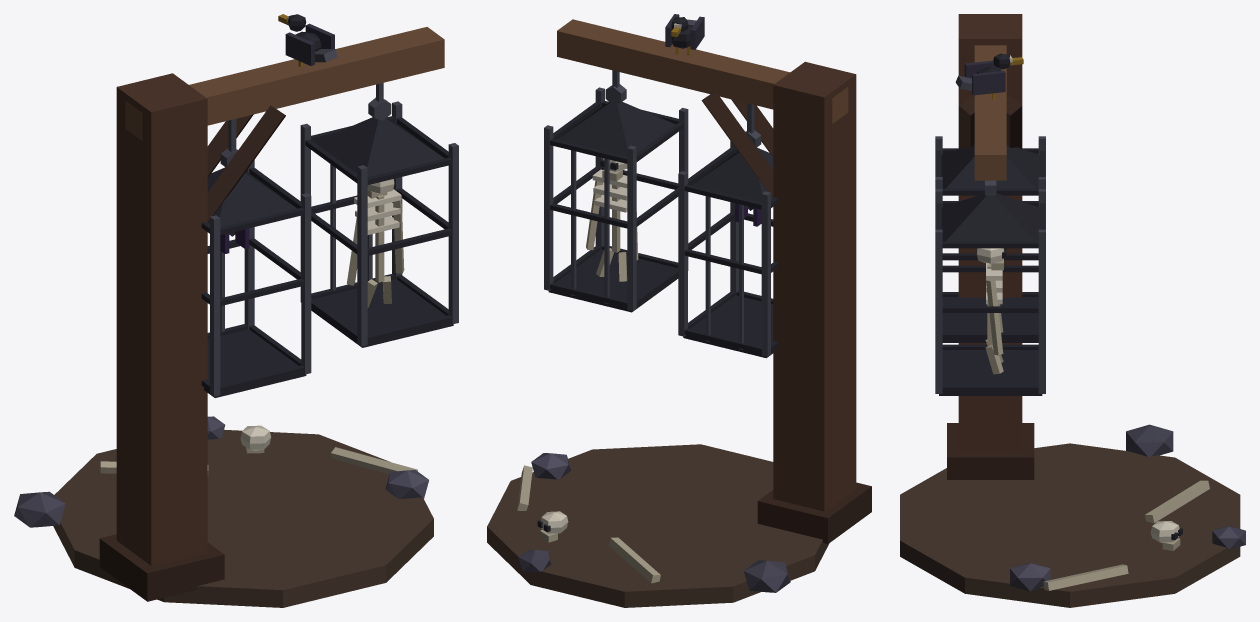
Rendered from Decor_VampireCrypt_Gibbet.fbx.
3 views of the same model, side by side, from view 1: azimuth 30°, elevation 25°; view 2: azimuth 150°, elevation 25°; view 3: azimuth 270°, elevation 25° (orthographic). The views are drawn at different scales.
Visible parts, largest first — view 1: Gibbet_Body; view 2: Gibbet_Body; view 3: Gibbet_Body.
Boxes of the visible parts, x1,y1,x2,y2 form: Gibbet_Body: (14, 14, 458, 607); Gibbet_Body: (487, 14, 871, 607); Gibbet_Body: (900, 14, 1245, 607).
Bounding box in the file's own units: 9.5 × 14 × 9.
